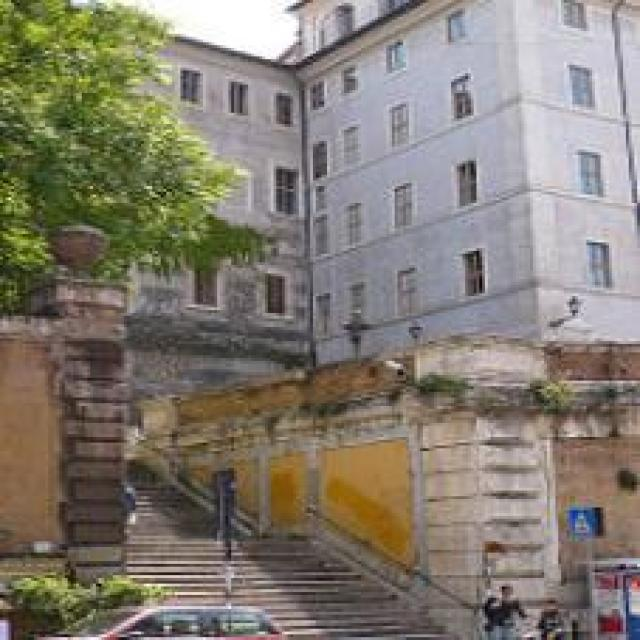upstair: (125, 444, 455, 638)
